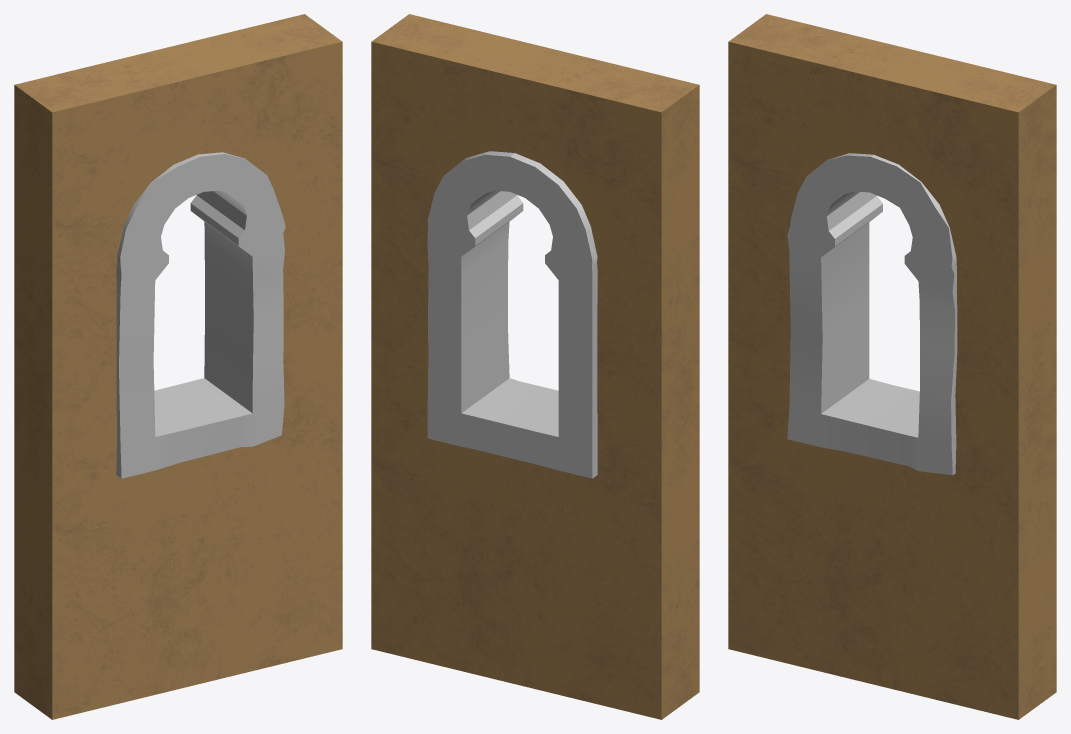
File: FBX_wall_window.fbx
The picture shows the model from 3 angles, left to right: view 1: azimuth 30°, elevation 25°; view 2: azimuth 150°, elevation 25°; view 3: azimuth 330°, elevation 25°; orthographic projection.
Parts seen in each view (by area): view 1: wall_window; view 2: wall_window; view 3: wall_window.
Boxes of the visible parts, x1,y1,x2,y2 form: wall_window: (14,14,342,719); wall_window: (371,14,699,719); wall_window: (728,14,1056,719).
Size of the model in its own units: 2 by 4 by 0.5749.
